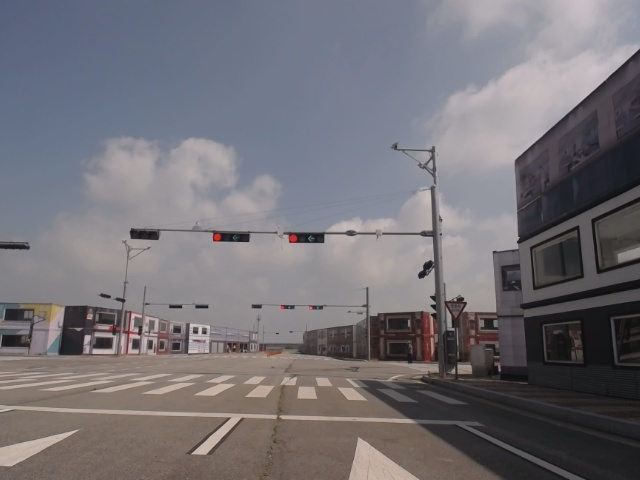left_green_4: (212, 231, 250, 243), (288, 232, 325, 243)
